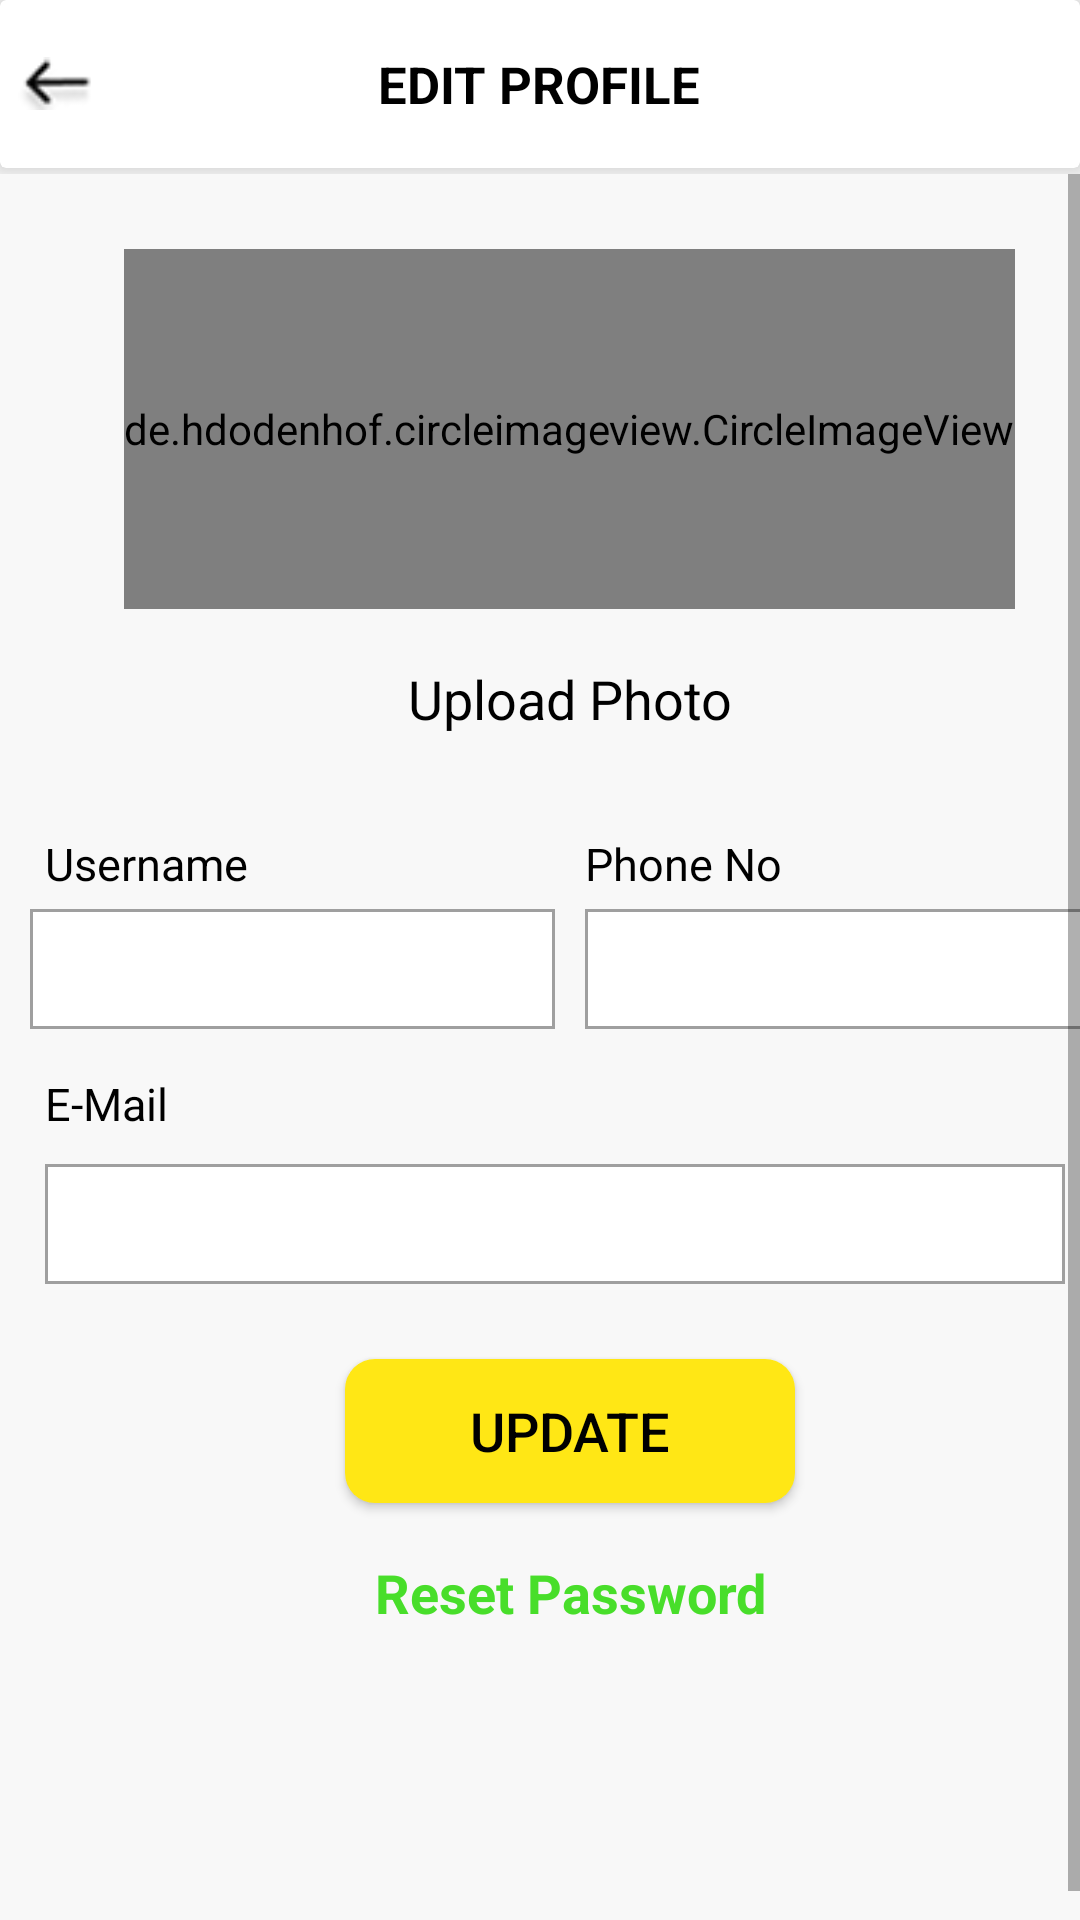

Icons on this 1080 × 1920 Android screen, each with the point to tap as [x,y]:
back: [58,84]
